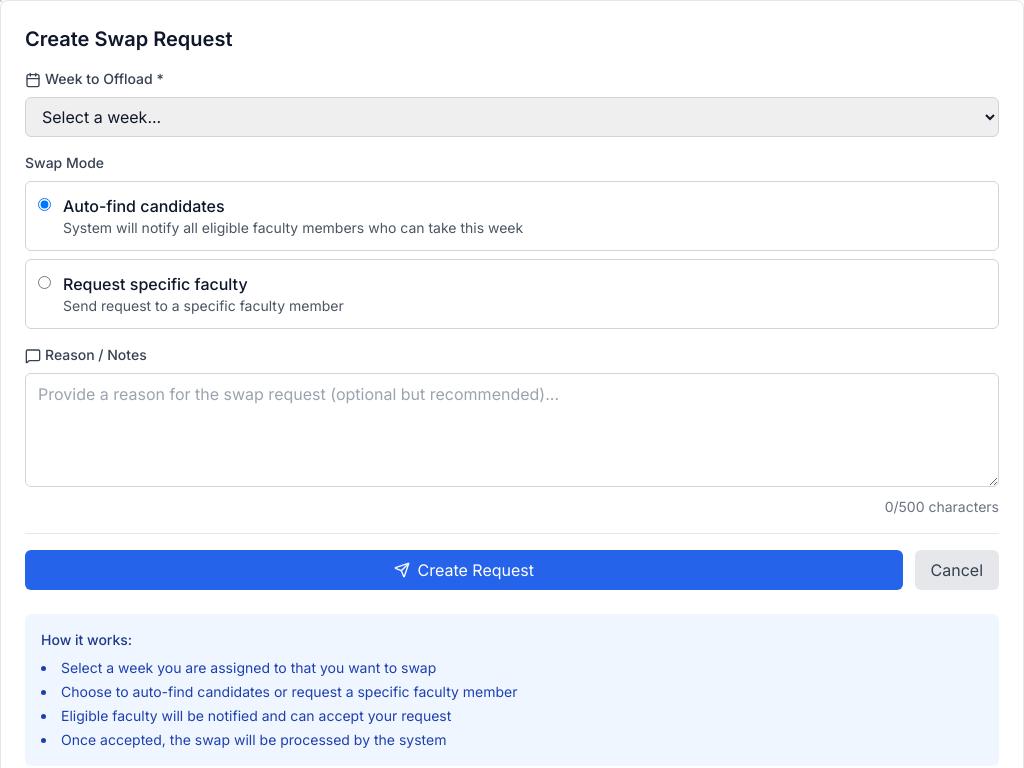
Test: SwapRequestForm › Swap Mode Selection › should switch between modes correctly
Switch to specific mode
Click the 2nd radio button at (44, 282), box [38, 276, 51, 289]
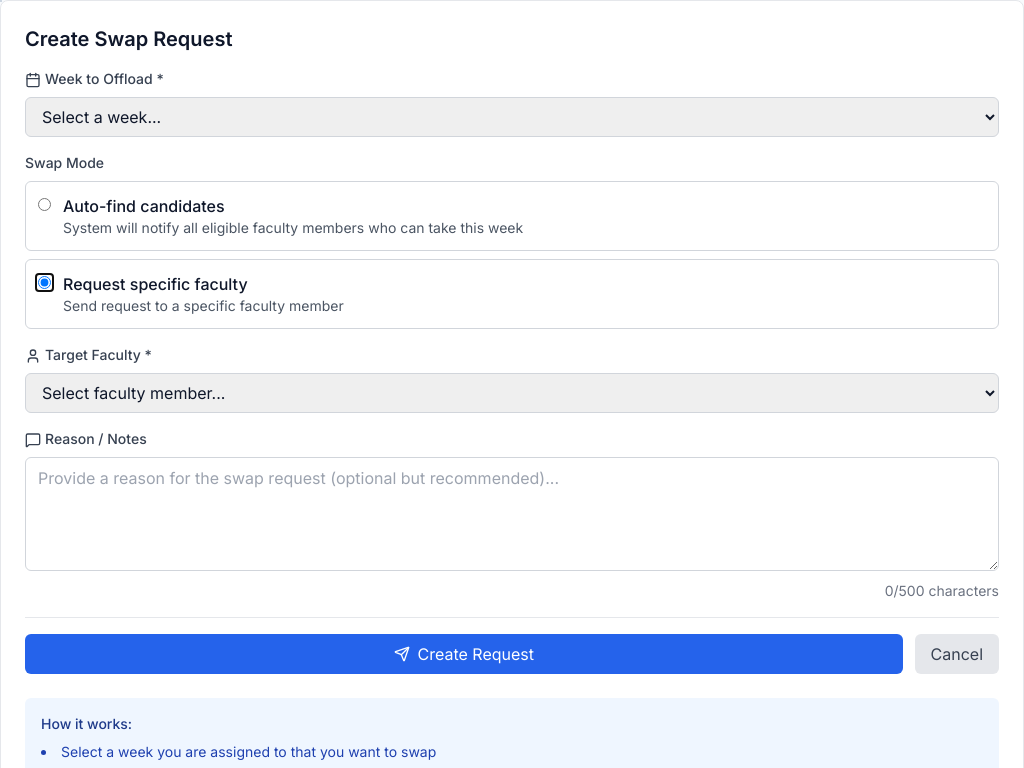
Check: the dropdown below "Target Faculty *" is shown, box [25, 373, 999, 413]
Switch back to auto mode
Click the 1st radio button at (44, 204), box [38, 198, 51, 211]
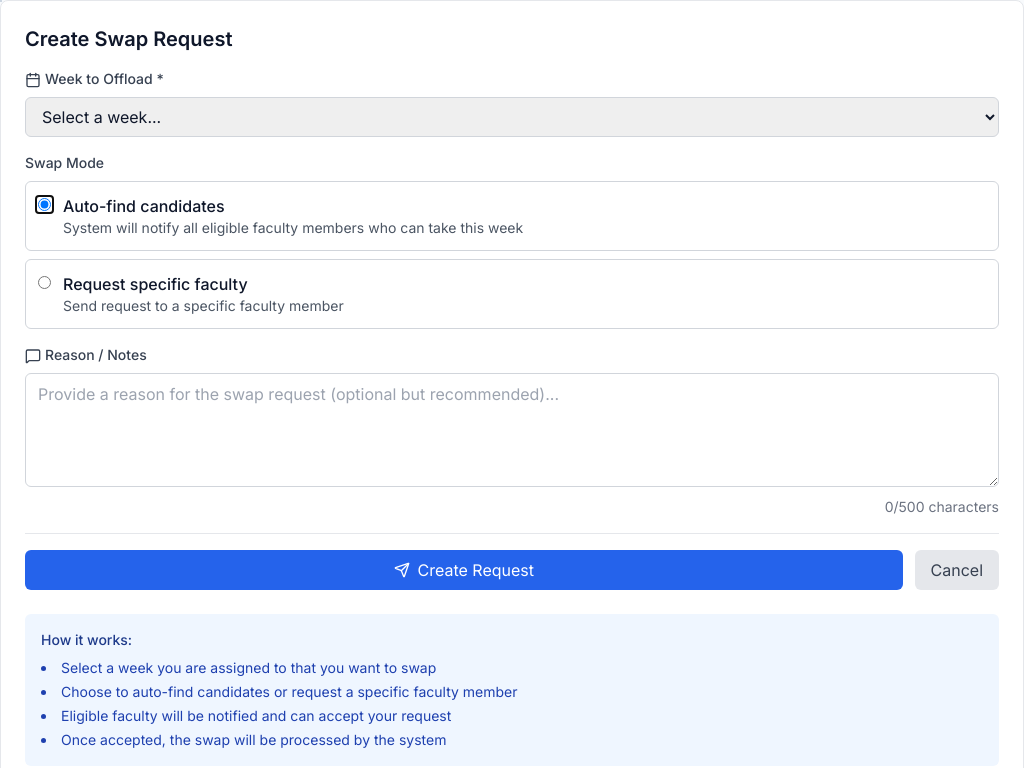
Check: the label labelled "Target Faculty" is gone
